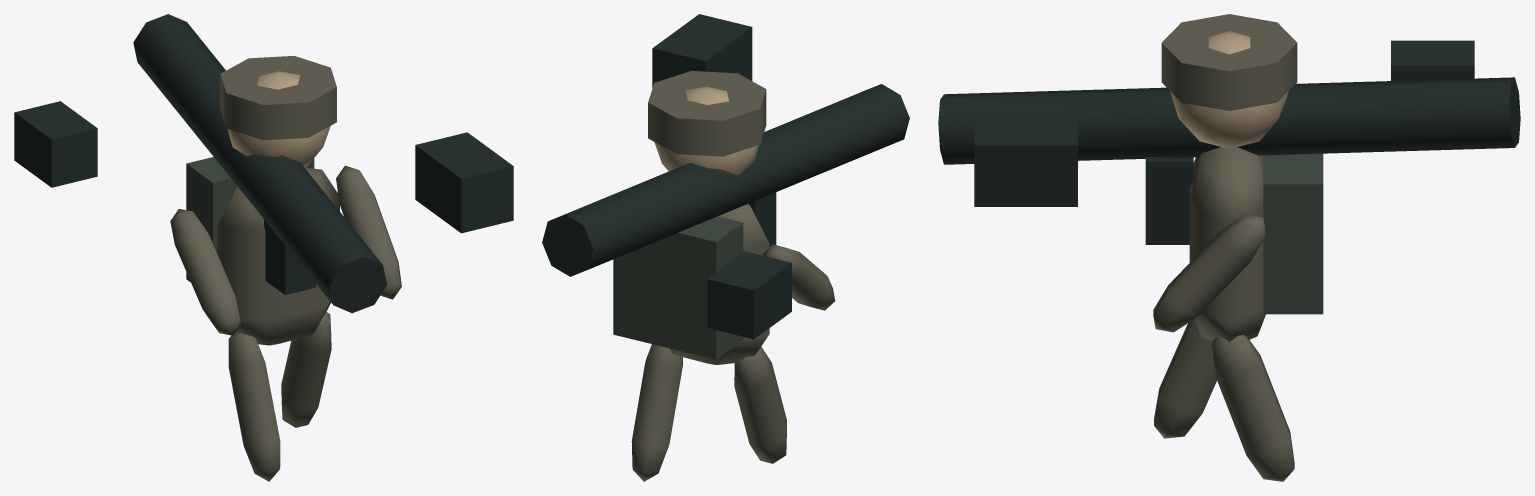
Rendered from rpg.glb.
The picture shows the model from 3 angles, left to right: view 1: azimuth 30°, elevation 25°; view 2: azimuth 150°, elevation 25°; view 3: azimuth 270°, elevation 25°; orthographic projection. The views are drawn at different scales.
Parts seen in each view (by area): view 1: rpg; view 2: rpg; view 3: rpg.
Part boxes in pixels (box(x1,y1,x2,y2)): rpg: box(14, 14, 513, 481); rpg: box(542, 14, 909, 481); rpg: box(938, 14, 1520, 481).
Bounding box in the file's own units: 1.8 × 2.35 × 2.92.
